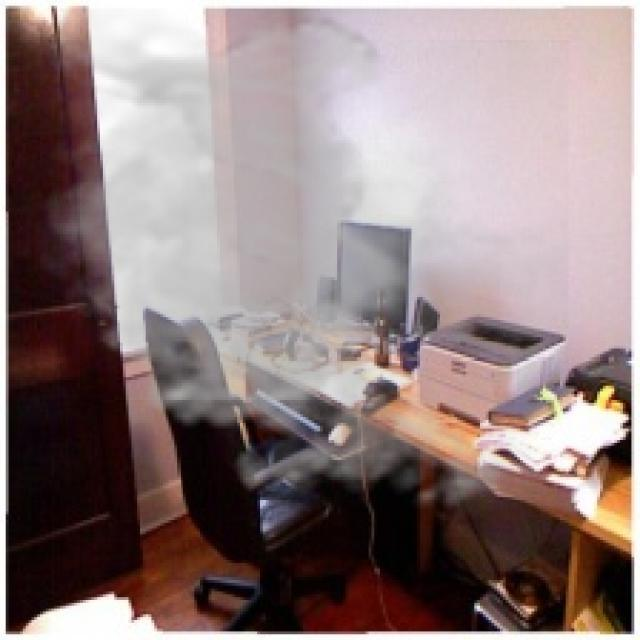Smoke: (26, 8, 568, 523)
